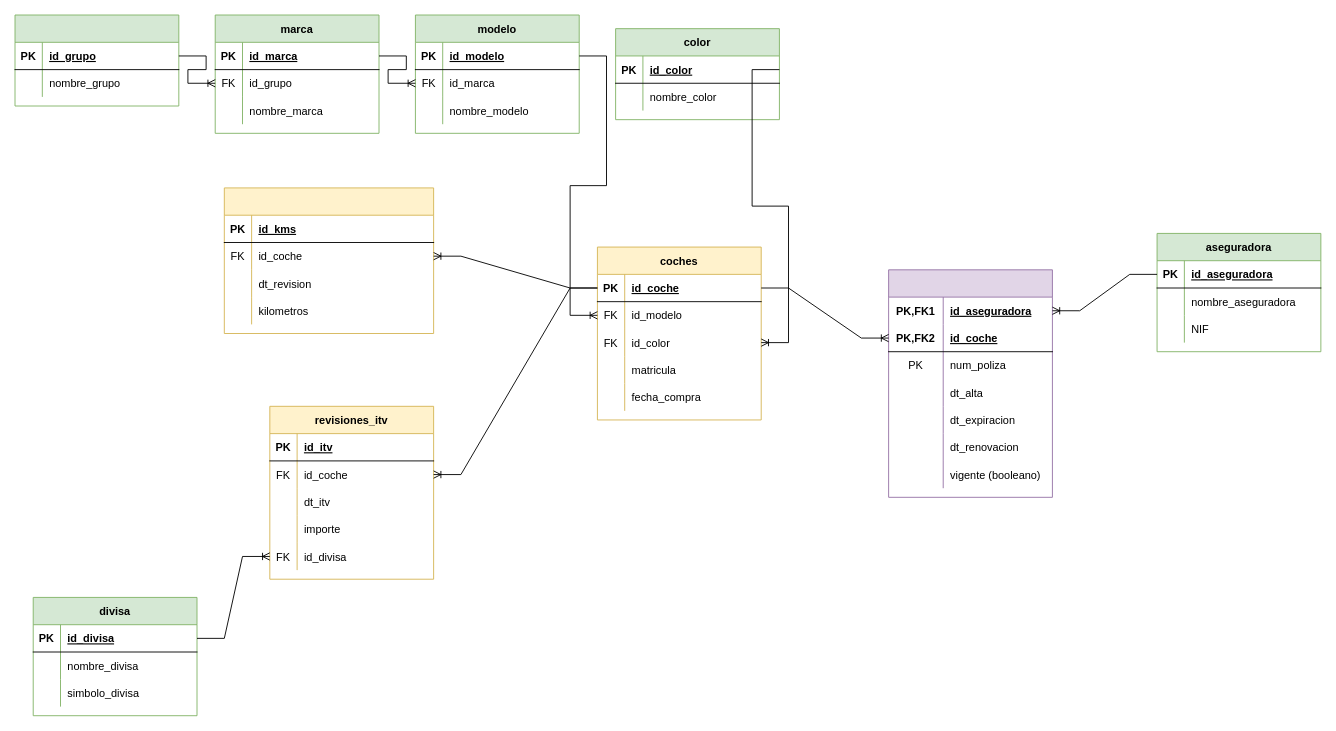
Image size: 1336x731. Some labels were removed from this diagram. The shapes that lost their labels are listed below. From the top down, each one's box as (x1, y1, x2, y2) in pixels, then its label:
(14, 14, 179, 106): grupo_empresarial
(223, 187, 434, 334): historial_kms
(888, 269, 1052, 497): coches_polizas
